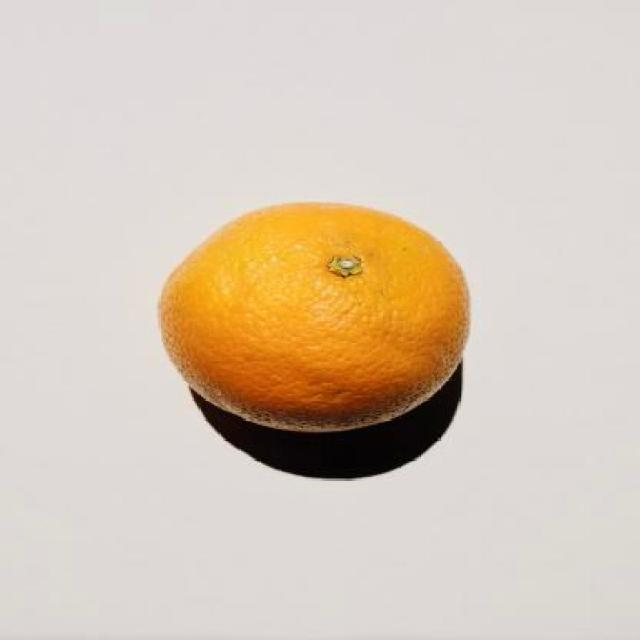Jeruk Sudah Matang: (159, 199, 475, 436)
